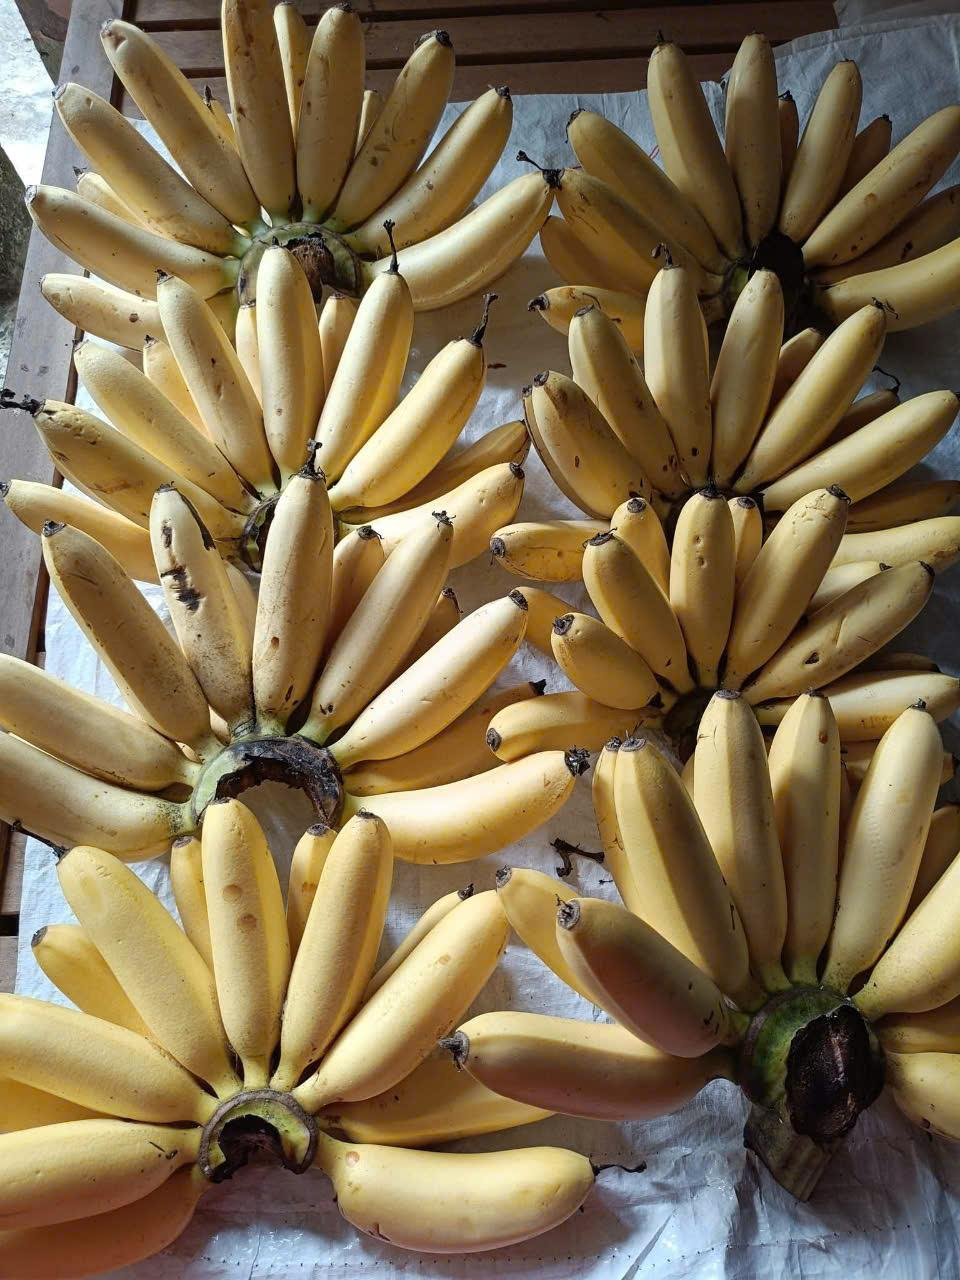banana: (13, 837, 559, 1280), (593, 703, 960, 1196), (0, 513, 544, 810), (30, 17, 570, 288), (500, 10, 960, 301), (30, 267, 531, 522), (597, 484, 876, 698), (717, 277, 937, 498), (544, 303, 687, 487)
